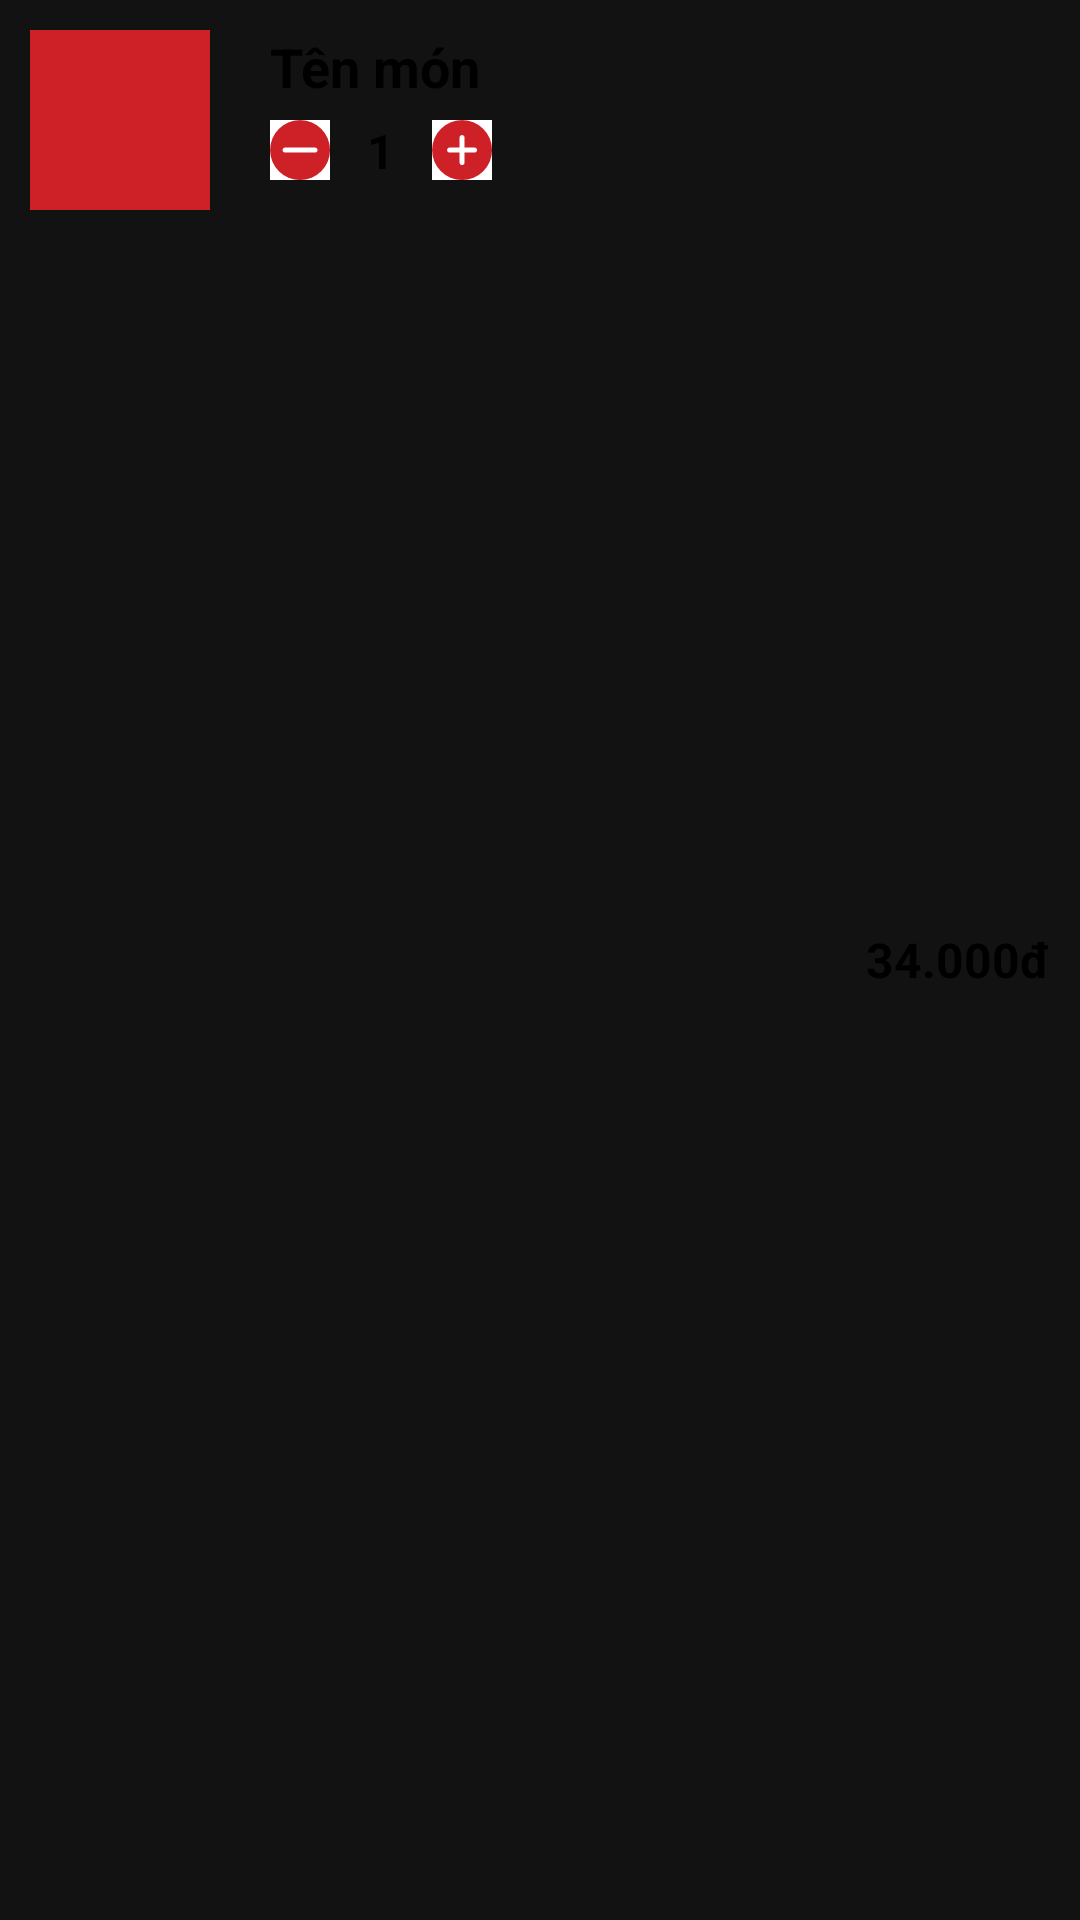

Icon click points for this 1080w x 1920h phone screenshot, format [x,y]:
add: [462,150]
minus: [300,150]
